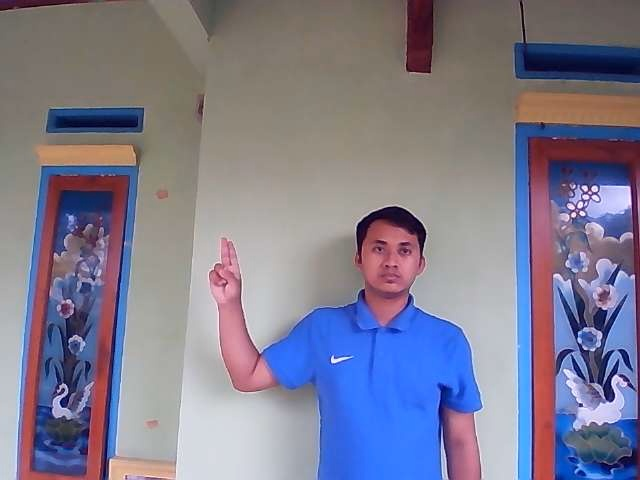U: (208, 237, 241, 303)
